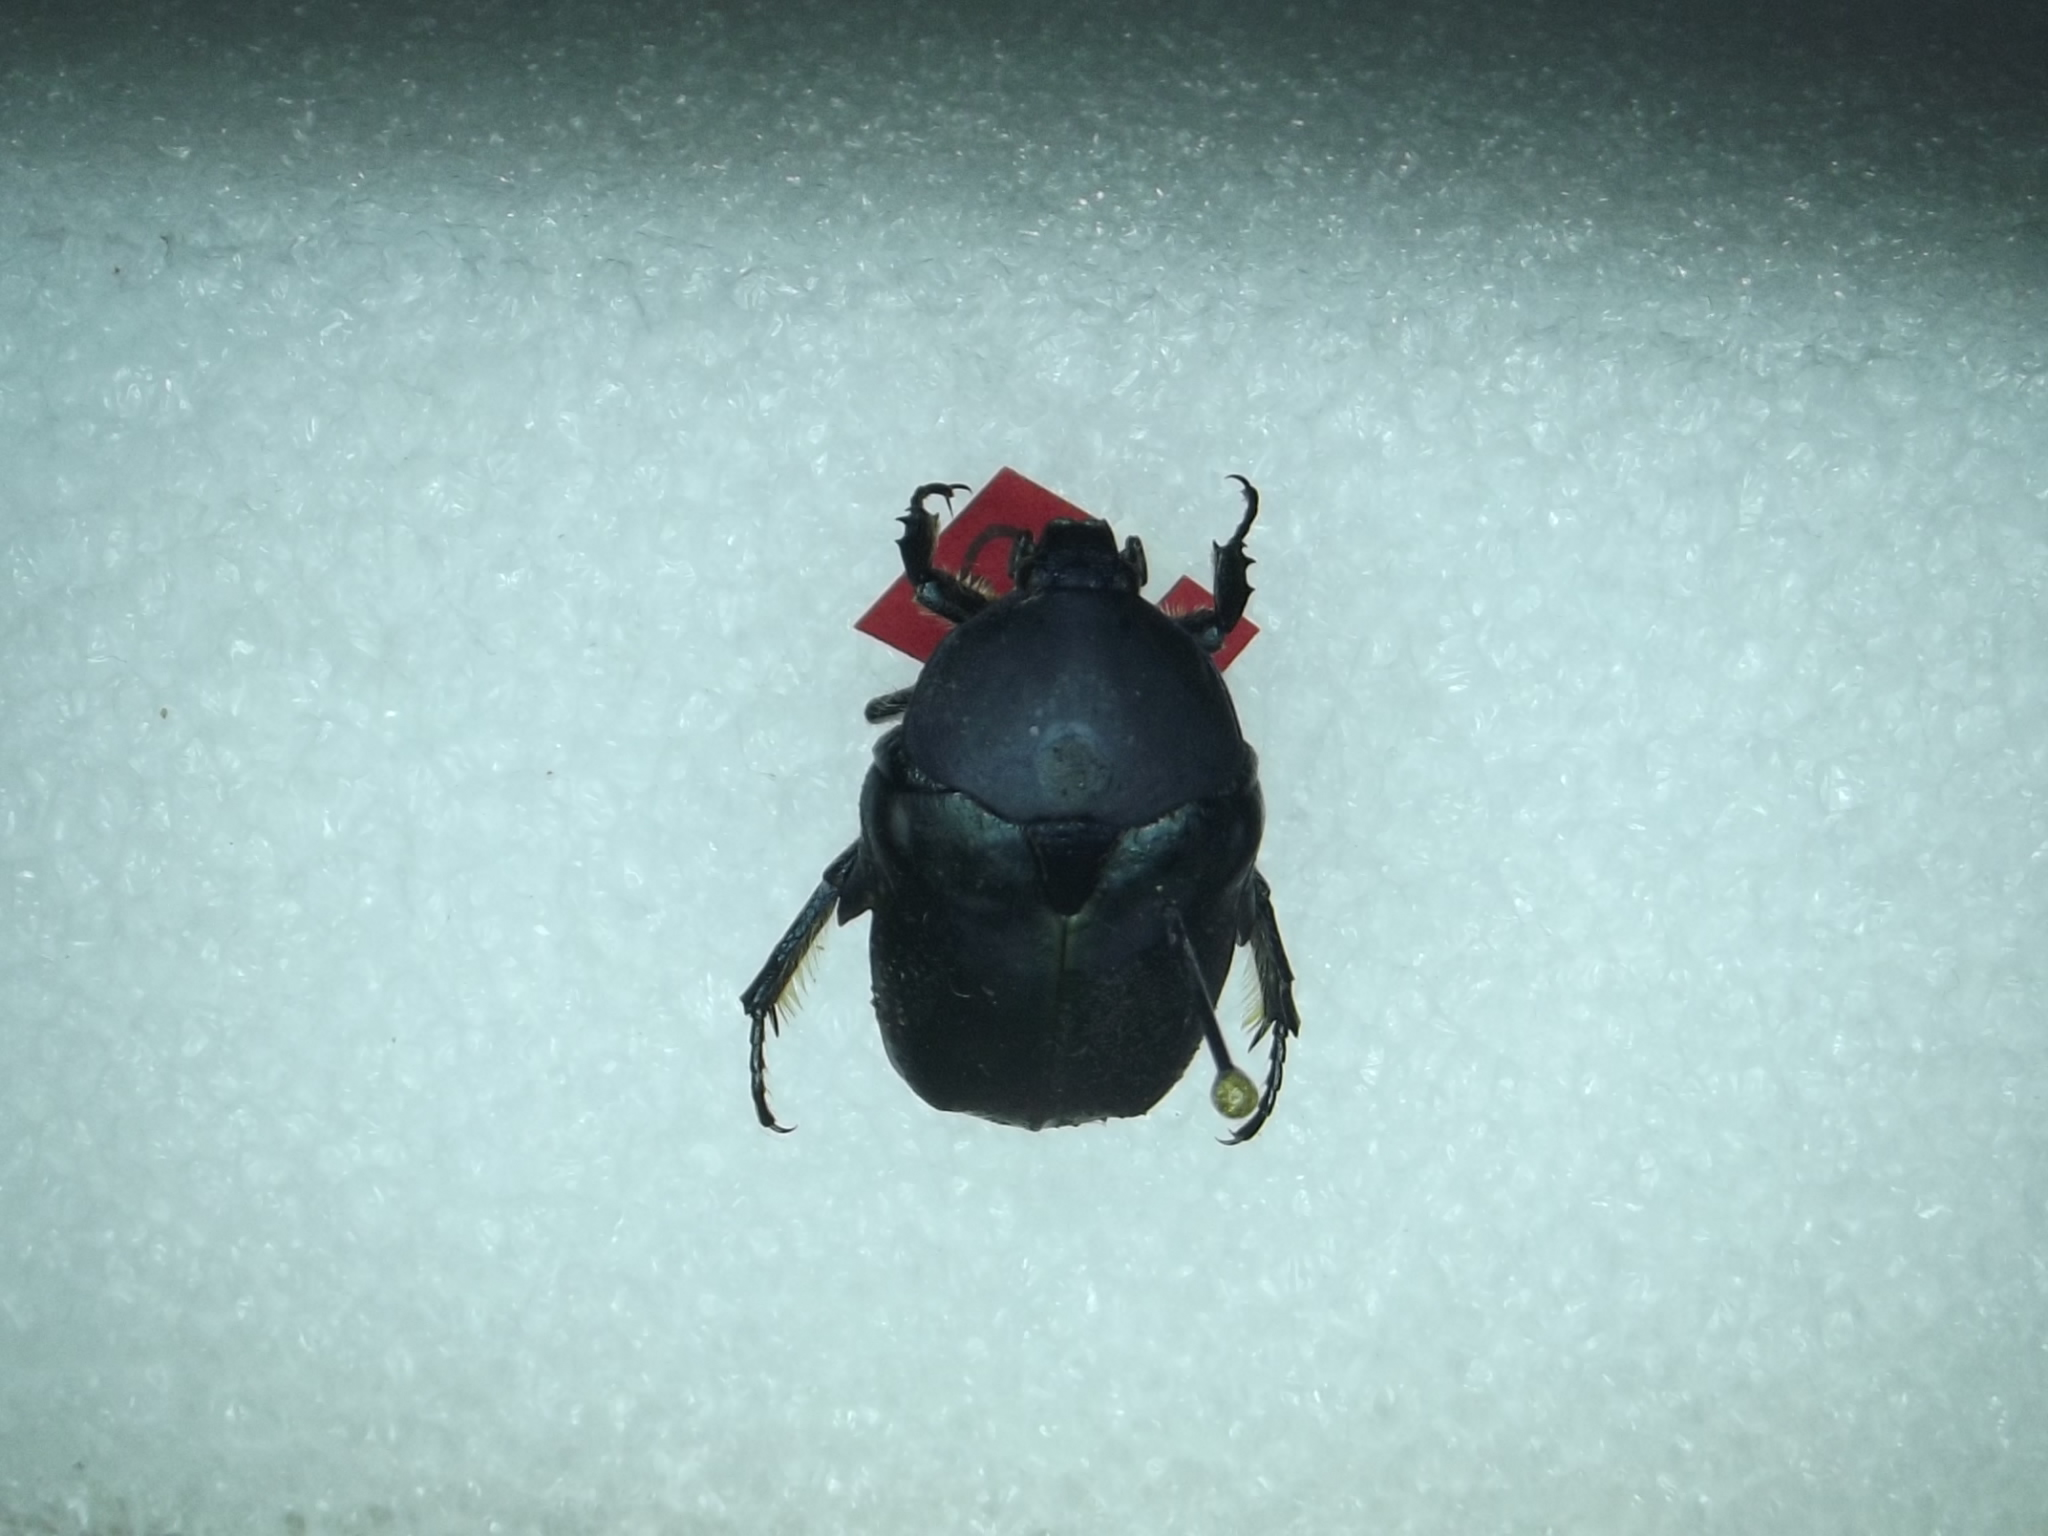Protaetia_afflicta: (700, 449, 1338, 1183)
